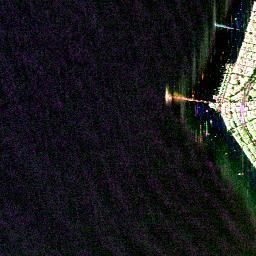Ship: (161, 85, 171, 103)
